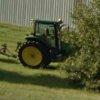Tractor: (14, 12, 80, 71)
